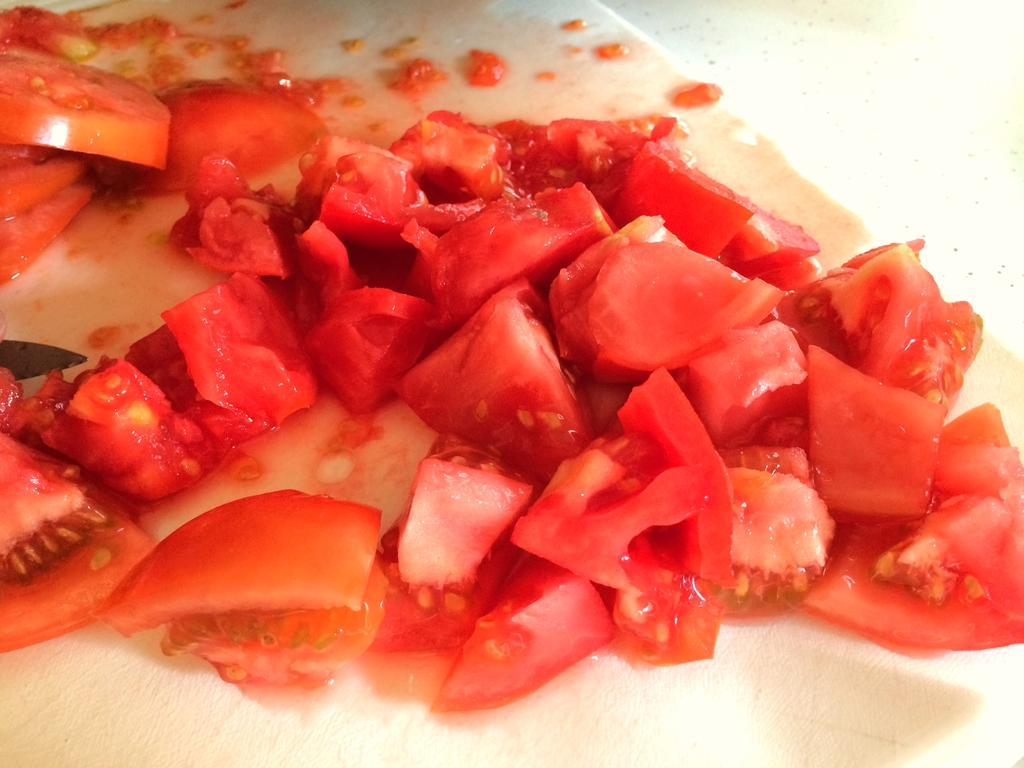Tomato: (0, 39, 1023, 716), (44, 359, 242, 508)
